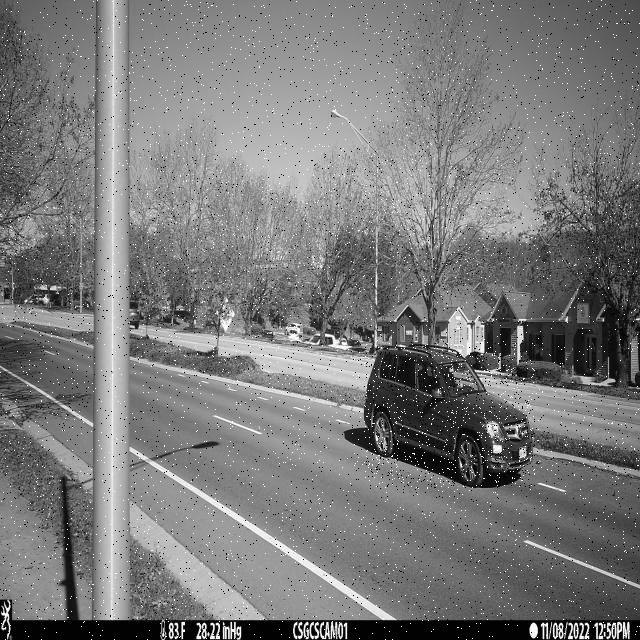SUV: (364, 343, 535, 488)
